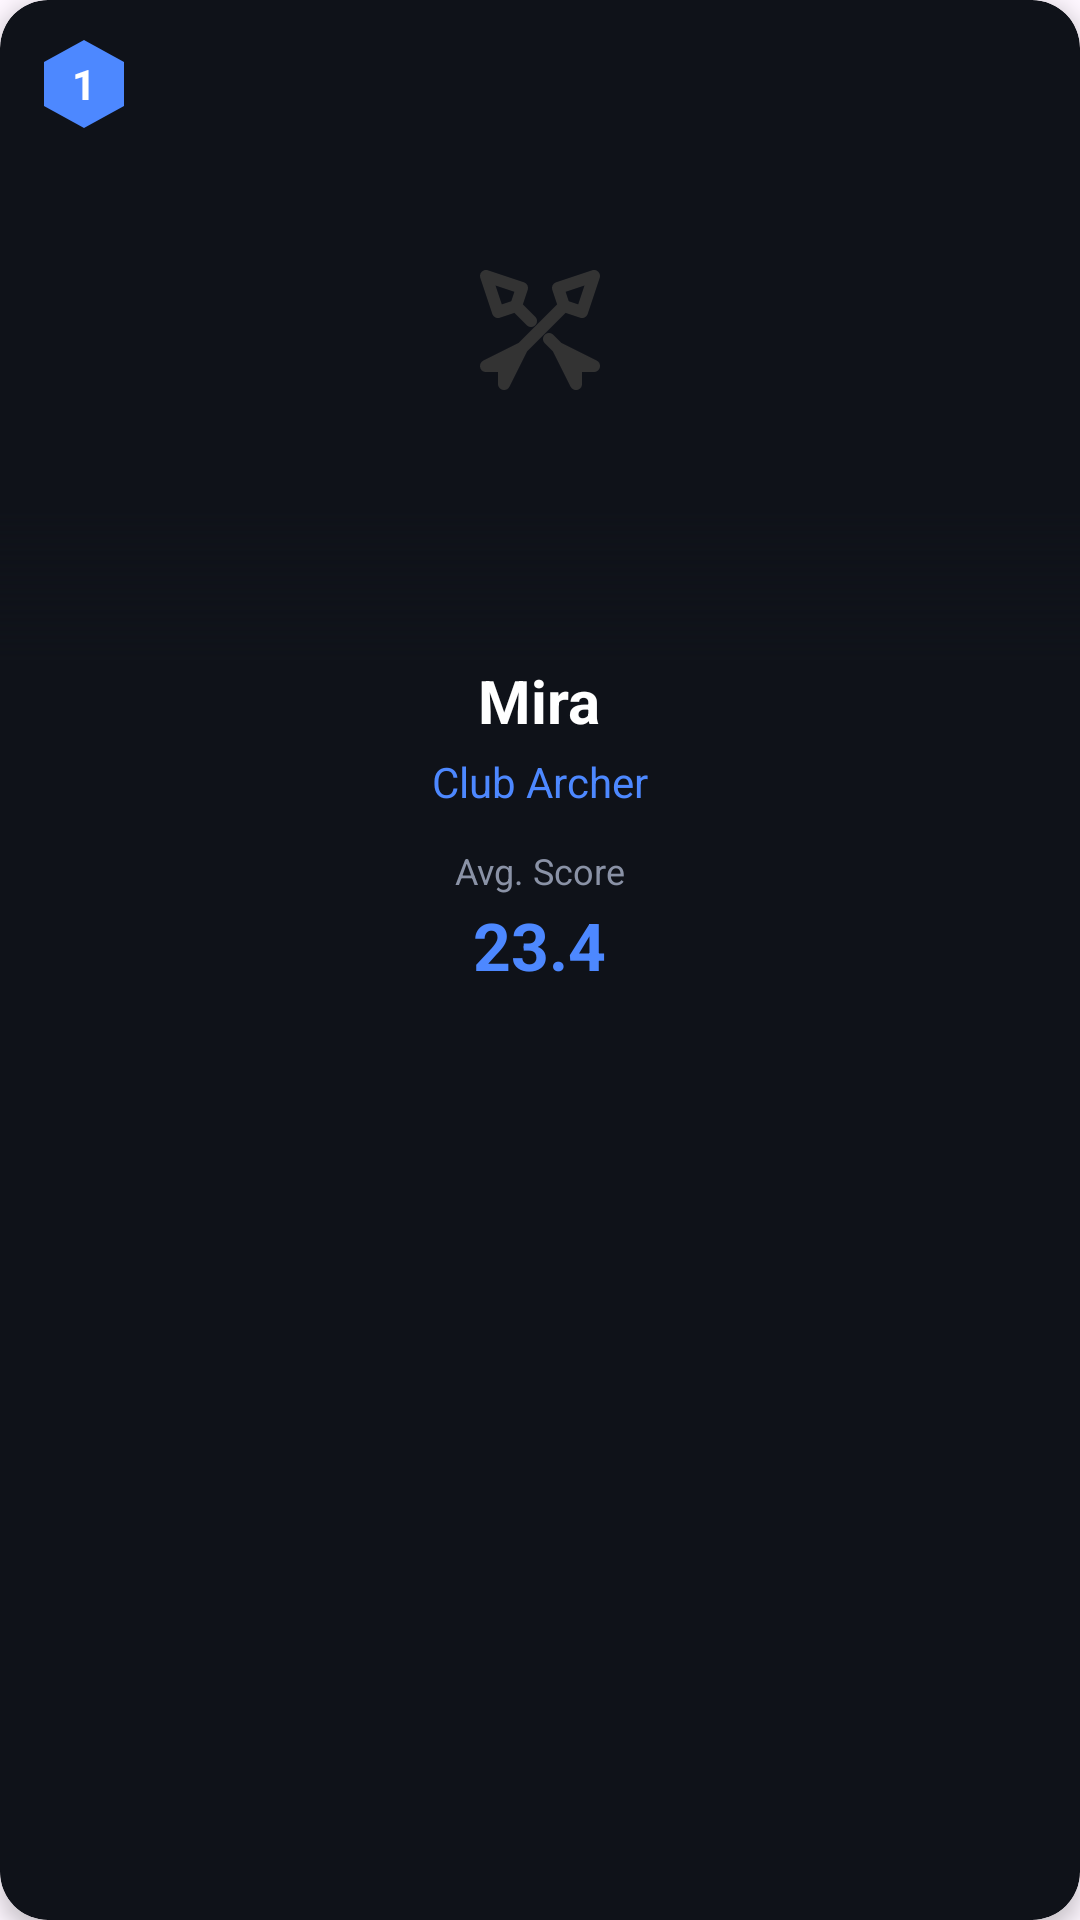

Icon click points for this 1080w x 1920h phone screenshot, format (x,y):
crossed arrows: (540,330)
hexagon: (84,84)
